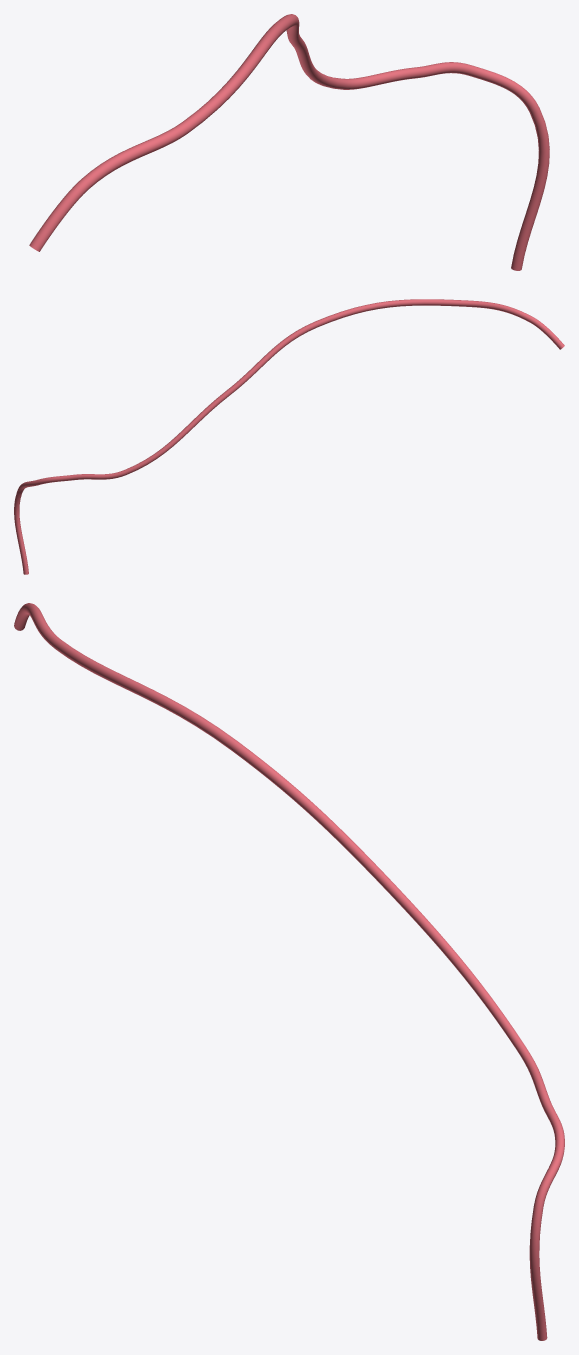
3 views of the same model, one above another, from view 1: azimuth 30°, elevation 25°; view 2: azimuth 150°, elevation 25°; view 3: azimuth 270°, elevation 25° (orthographic). The views are drawn at different scales.
Visible parts, largest first — view 1: ZA_cfdec5ed0f189dbc; view 2: ZA_cfdec5ed0f189dbc; view 3: ZA_cfdec5ed0f189dbc.
Part boxes in pixels (x1=…): ZA_cfdec5ed0f189dbc: x1=29, y1=14, x2=549, y2=270; ZA_cfdec5ed0f189dbc: x1=14, y1=299, x2=564, y2=574; ZA_cfdec5ed0f189dbc: x1=14, y1=603, x2=564, y2=1340.
Size of the model in its own units: 0.1015 by 0.0598 by 0.0676.
